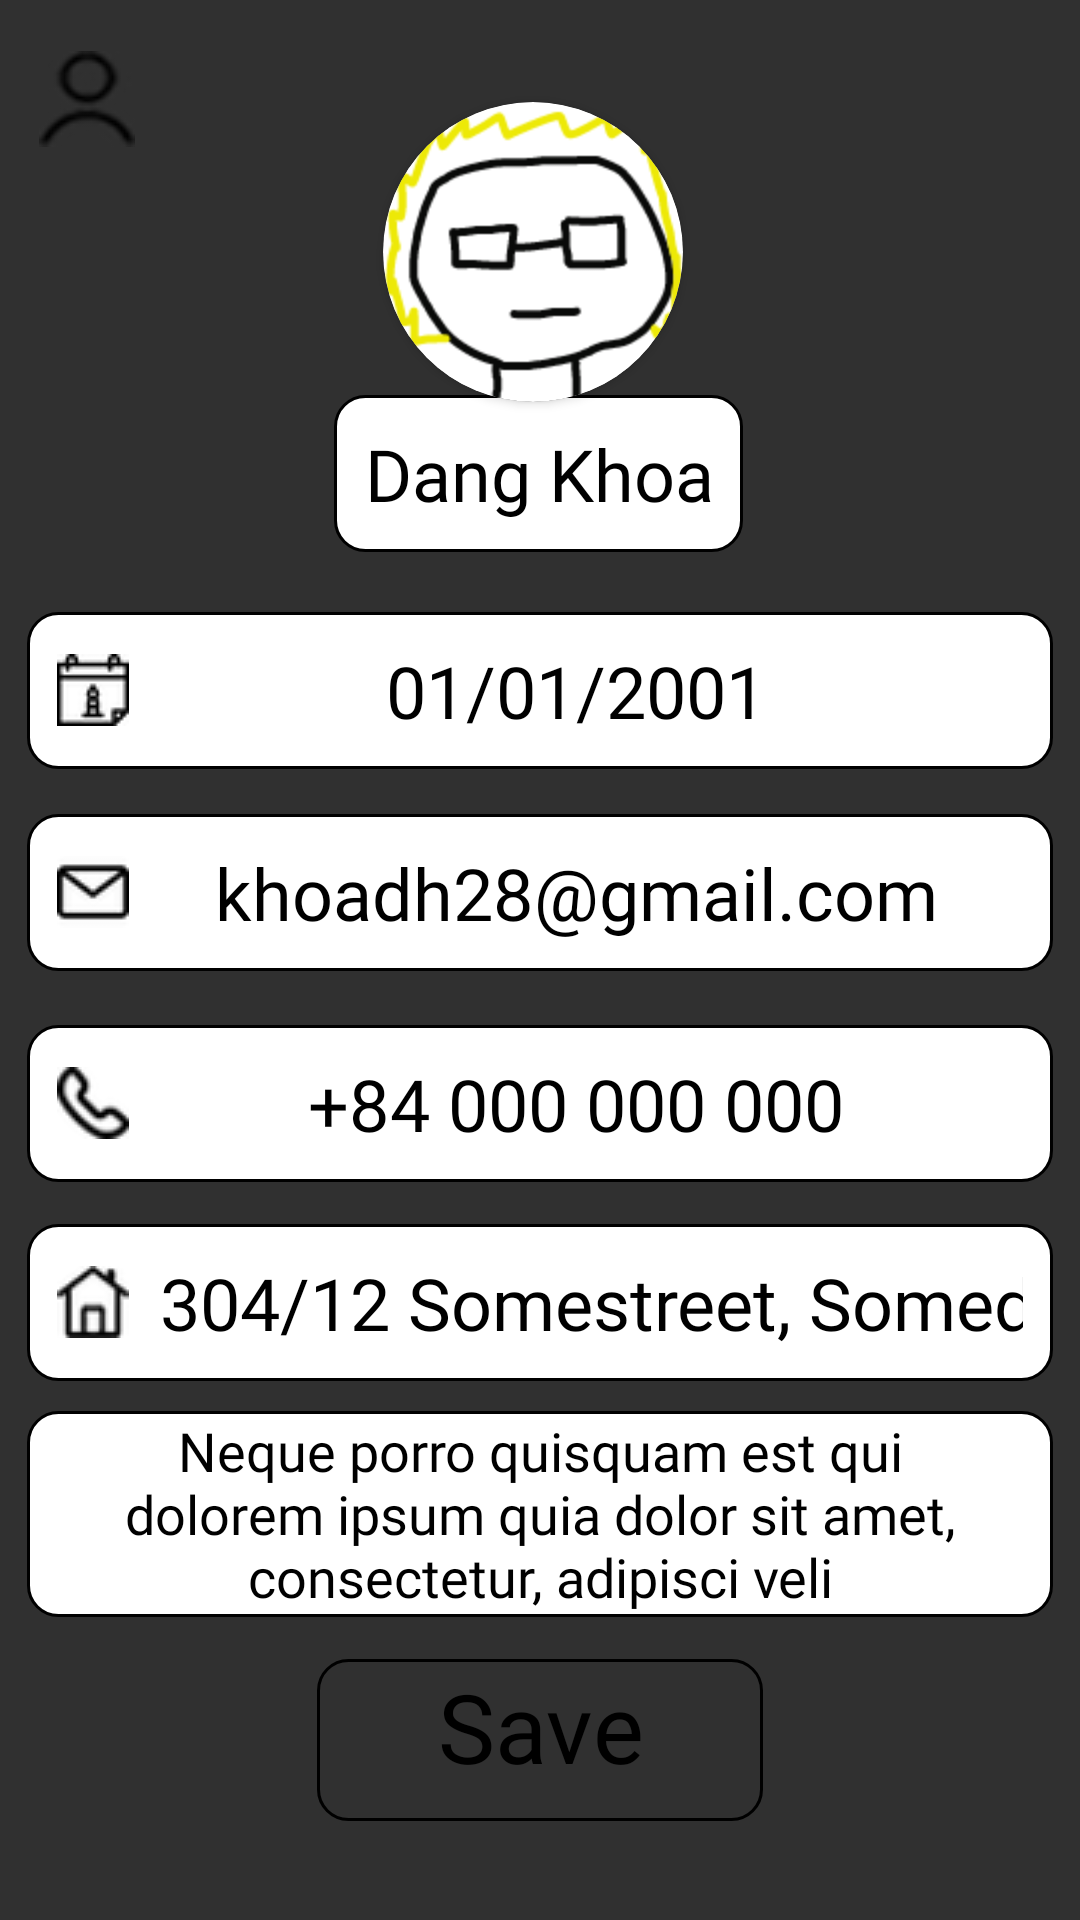

Icon click points for this 1080x1920 phone screenshot, format point (x, y):
avatar: point (533, 252)
